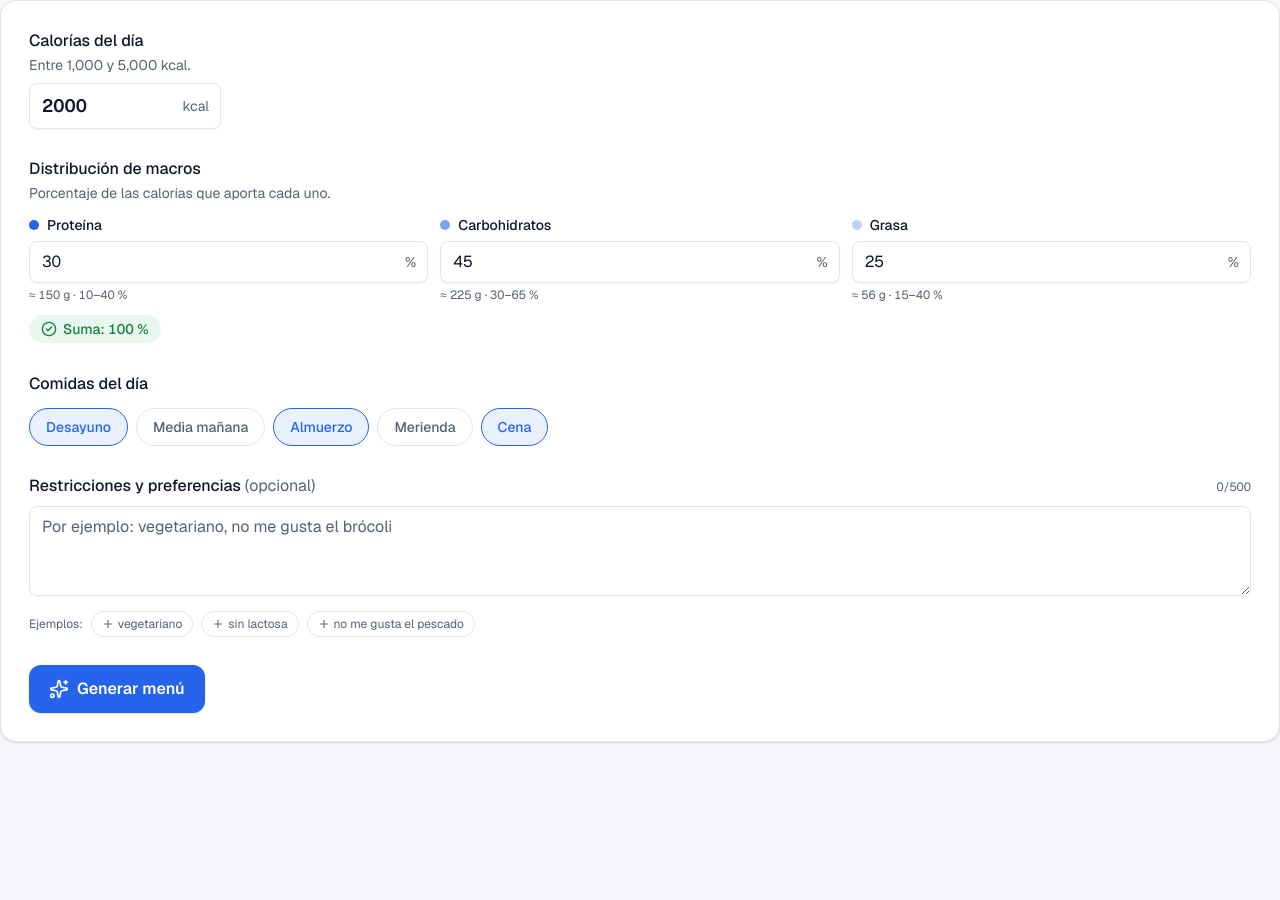
it: MenuForm › con la cola llena muestra un aviso para reintentar más tarde
What coordinates should you click on to do the following:
click the button "Generar menú"
I would click on:
 (117, 689)
Its box is [29,665,205,713].
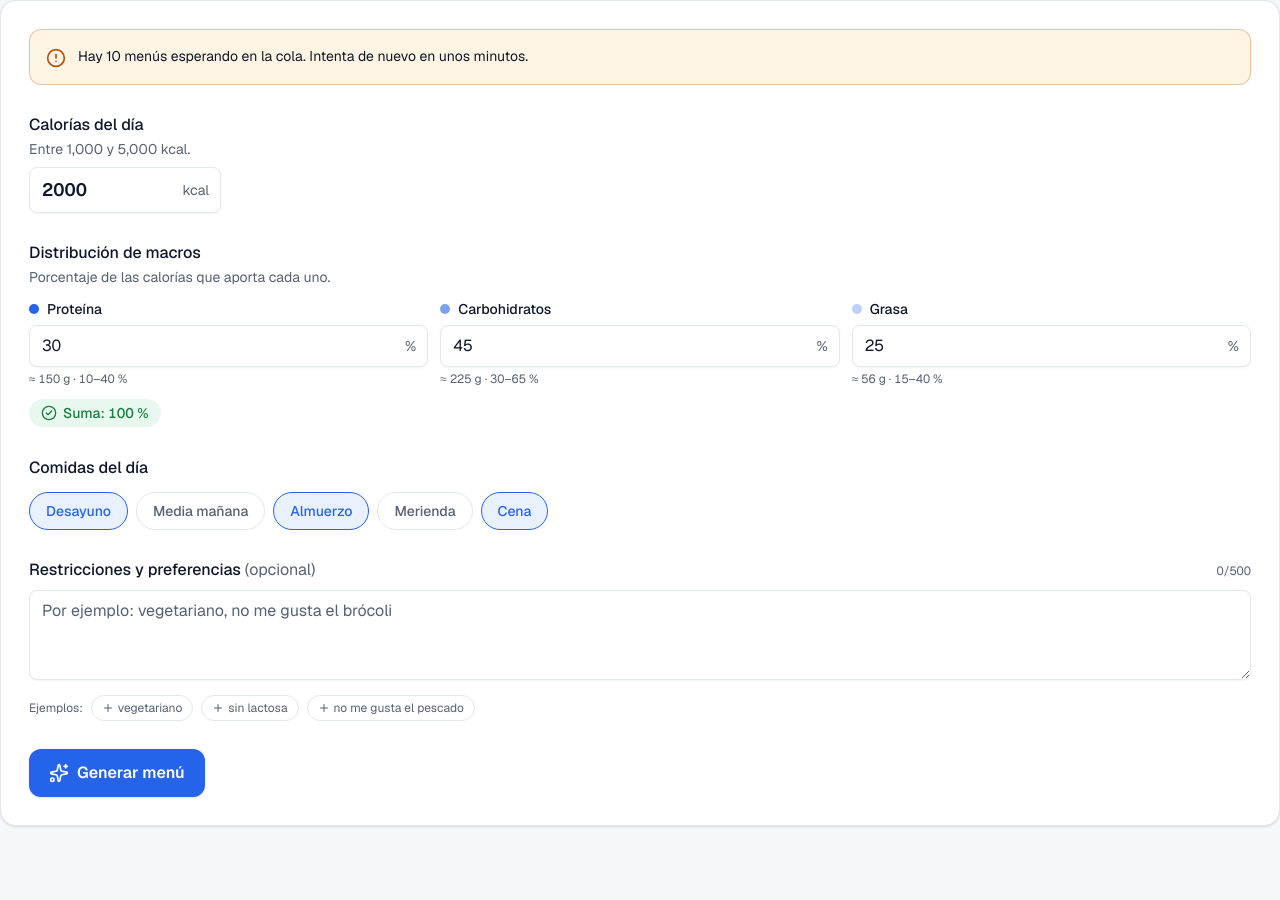
Check: the message shows "Intenta de nuevo en unos minutos", box [78,47,528,65]
